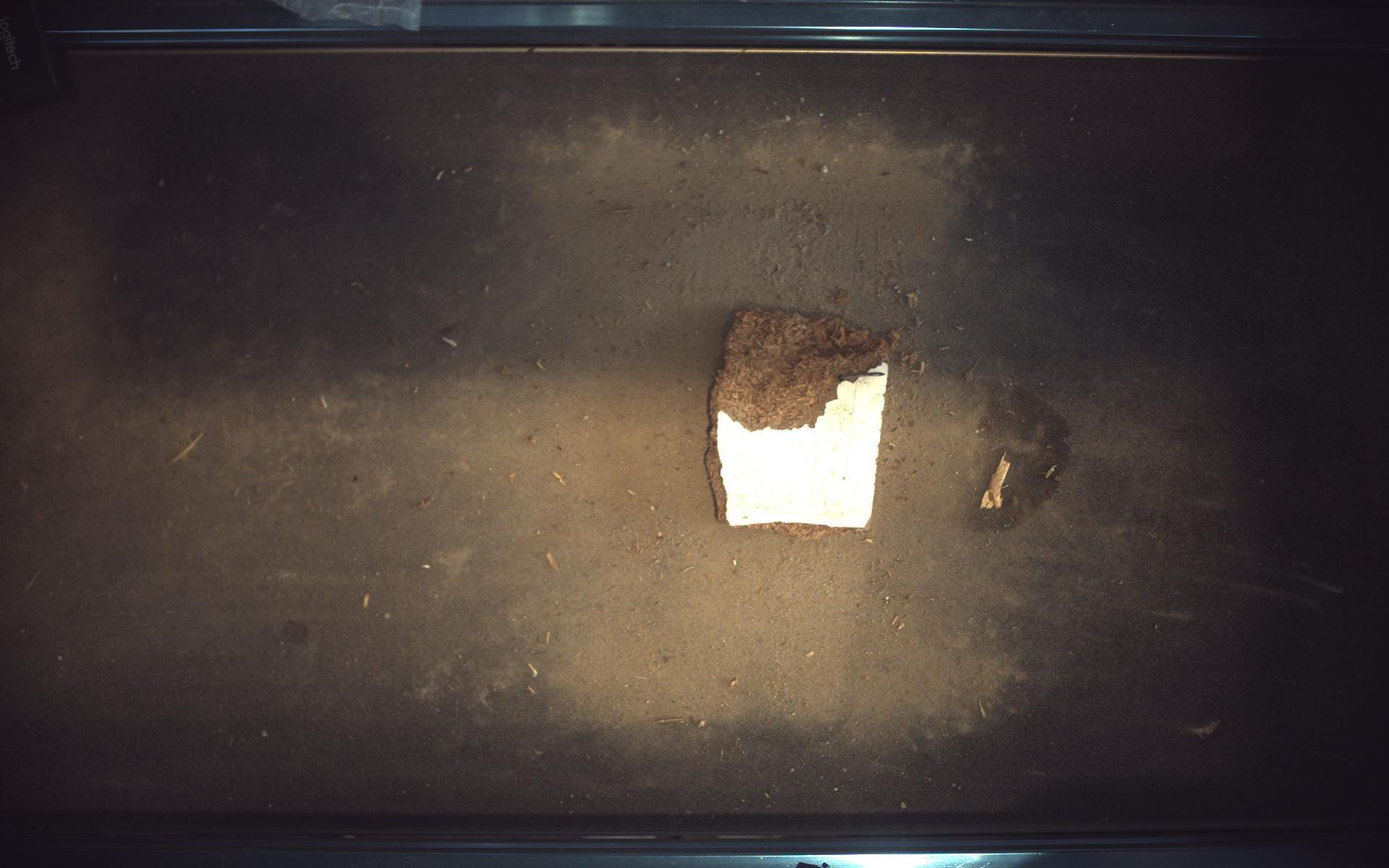wood: (708, 309, 898, 534)
